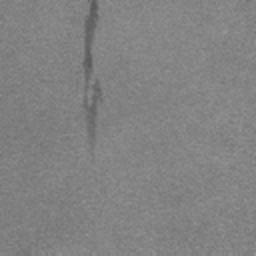Red iron sheet: (83, 81, 102, 149), (83, 0, 98, 81)
